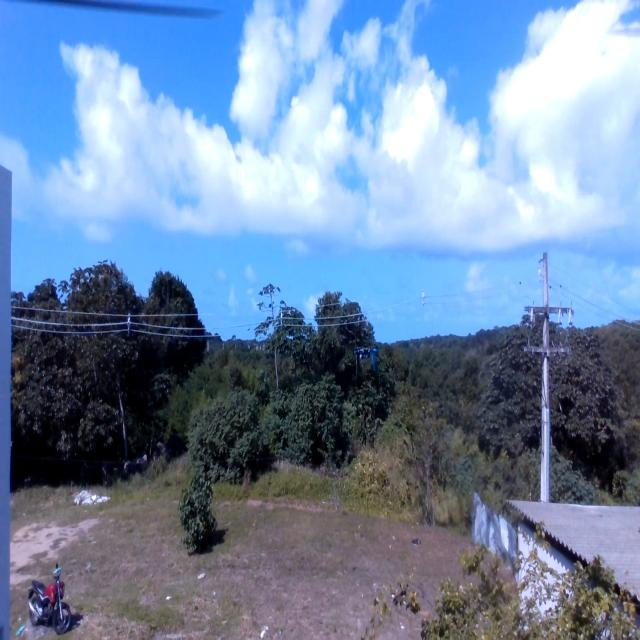-uav-: (345, 322, 384, 389)
